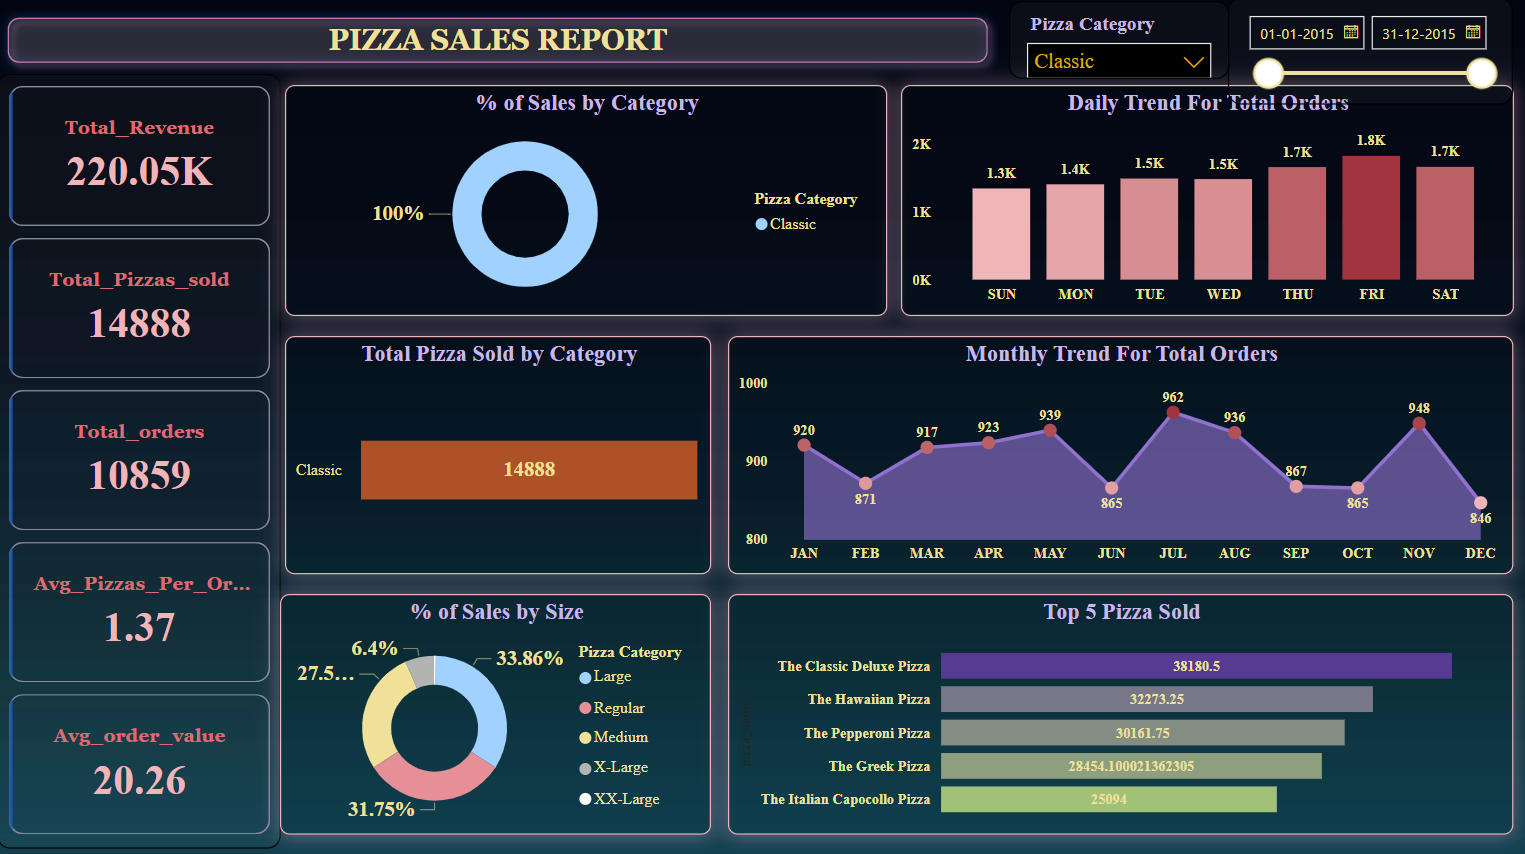

The page's visual inventory and layout, read from the dashboard file:
{"tool":"powerbi","page":{"name":"Pizza_Sales","canvas":[1280,720],"ordinal":0},"visuals":[{"type":"cardVisual","fields":{"Data":["pizza_sales.Total_Revenue","pizza_sales.Total_Pizzas_sold","pizza_sales.Total_orders","pizza_sales.Avg_Pizzas_Per_Orders","pizza_sales.Avg_order_value"]},"box":[0,63.2,236.6,646.7],"z":0},{"type":"shape","box":[0,7.7,836.4,55.6],"z":1000},{"type":"clusteredColumnChart","title":"Daily Trend For Total Orders","fields":{"Category":["pizza_sales.Order Day"],"Y":["pizza_sales.Total_orders"]},"box":[755,72.8,511.6,192.6],"z":2000},{"type":"areaChart","title":"Monthly Trend For Total Orders","fields":{"Category":["pizza_sales.Order Month"],"Y":["pizza_sales.Total_orders"]},"box":[610.3,282.6,656.3,199.3],"z":3000},{"type":"donutChart","title":"% of Sales by Category","fields":{"Y":["pizza_sales.Total_Revenue"],"Category":["pizza_sales.pizza_category"]},"box":[240.5,72.8,503,192.6],"z":4000},{"type":"donutChart","title":"% of Sales by Size","fields":{"Y":["pizza_sales.Total_Revenue"],"Category":["pizza_sales.pizza_size"]},"box":[236.6,498.2,360.2,201.2],"z":5000},{"type":"funnel","title":"Total Pizza Sold by Category","fields":{"Category":["pizza_sales.pizza_category"],"Y":["pizza_sales.Total_Pizzas_sold"]},"box":[240.5,282.6,356.4,199.3],"z":6000},{"type":"clusteredBarChart","title":"Top 5 Pizza Sold","fields":{"Y":["pizza_sales.Total_Revenue"],"Category":["pizza_sales.pizza_name"]},"box":[610.3,498.2,656.3,201.2],"z":7000},{"type":"slicer","fields":{"Values":["pizza_sales.pizza_category"]},"box":[845,2.9,184,65.1],"z":8000},{"type":"slicer","fields":{"Values":["pizza_sales.order_date"]},"box":[1028.6,0,237.6,88.7],"z":9000}]}

Visuals, with their boxes in screenshot pixels (x1, y1, x2, y2), scaled from the page's 1280x720 canvas onto the 1525x854 screenshot:
cardVisual - pizza_sales.Total_Revenue x pizza_sales.Total_Pizzas_sold: x1=0, y1=75, x2=282, y2=842
shape: x1=0, y1=9, x2=996, y2=75
"Daily Trend For Total Orders" clusteredColumnChart: x1=900, y1=86, x2=1509, y2=315
"Monthly Trend For Total Orders" areaChart: x1=727, y1=335, x2=1509, y2=572
"% of Sales by Category" donutChart: x1=287, y1=86, x2=886, y2=315
"% of Sales by Size" donutChart: x1=282, y1=591, x2=711, y2=830
"Total Pizza Sold by Category" funnel: x1=287, y1=335, x2=711, y2=572
"Top 5 Pizza Sold" clusteredBarChart: x1=727, y1=591, x2=1509, y2=830
slicer - pizza_sales.pizza_category: x1=1007, y1=3, x2=1226, y2=81
slicer - pizza_sales.order_date: x1=1225, y1=0, x2=1509, y2=105
